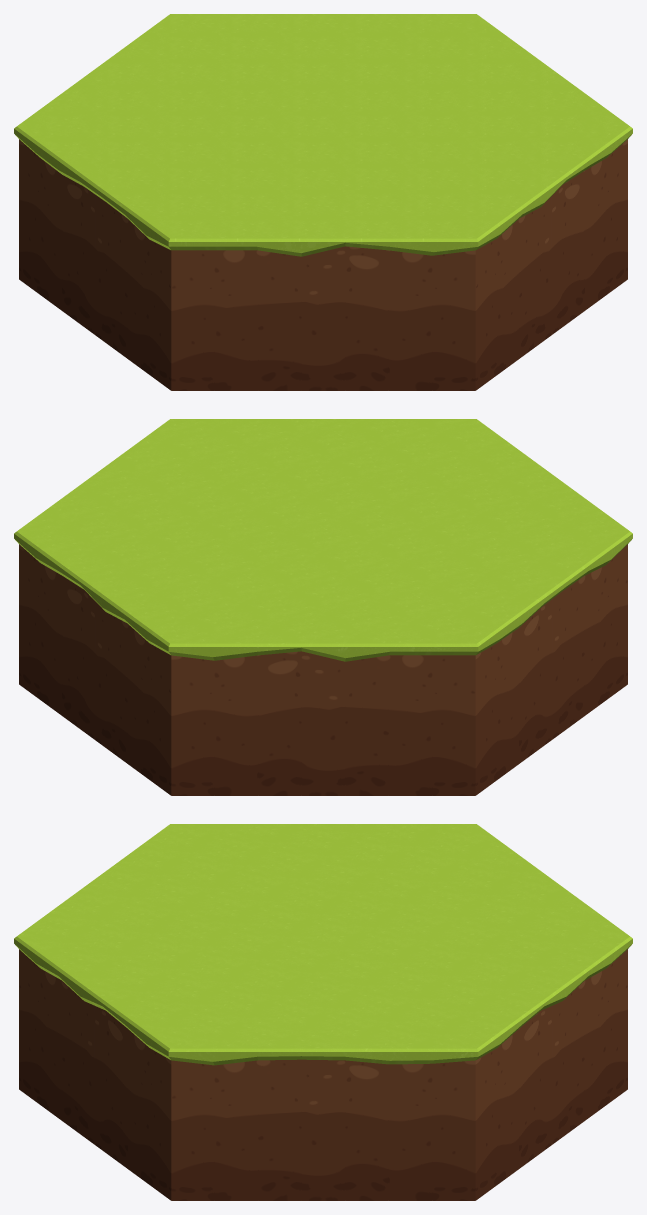
File: HexaGround.fbx
3 renders of one model, top to bottom at view 1: azimuth 30°, elevation 25°; view 2: azimuth 150°, elevation 25°; view 3: azimuth 270°, elevation 25°, orthographic.
Visible parts, largest first — view 1: Ground, Soil; view 2: Ground, Soil; view 3: Ground, Soil.
Part boxes in pixels (<box>): Ground: <box>14,14,632,256</box>; Soil: <box>19,139,627,390</box>; Ground: <box>14,419,632,661</box>; Soil: <box>19,544,627,795</box>; Ground: <box>14,824,632,1065</box>; Soil: <box>19,949,627,1200</box>.
Bounding box in the file's own units: 35.2 × 11.08 × 40.64.
2 materials, 2 textured.
